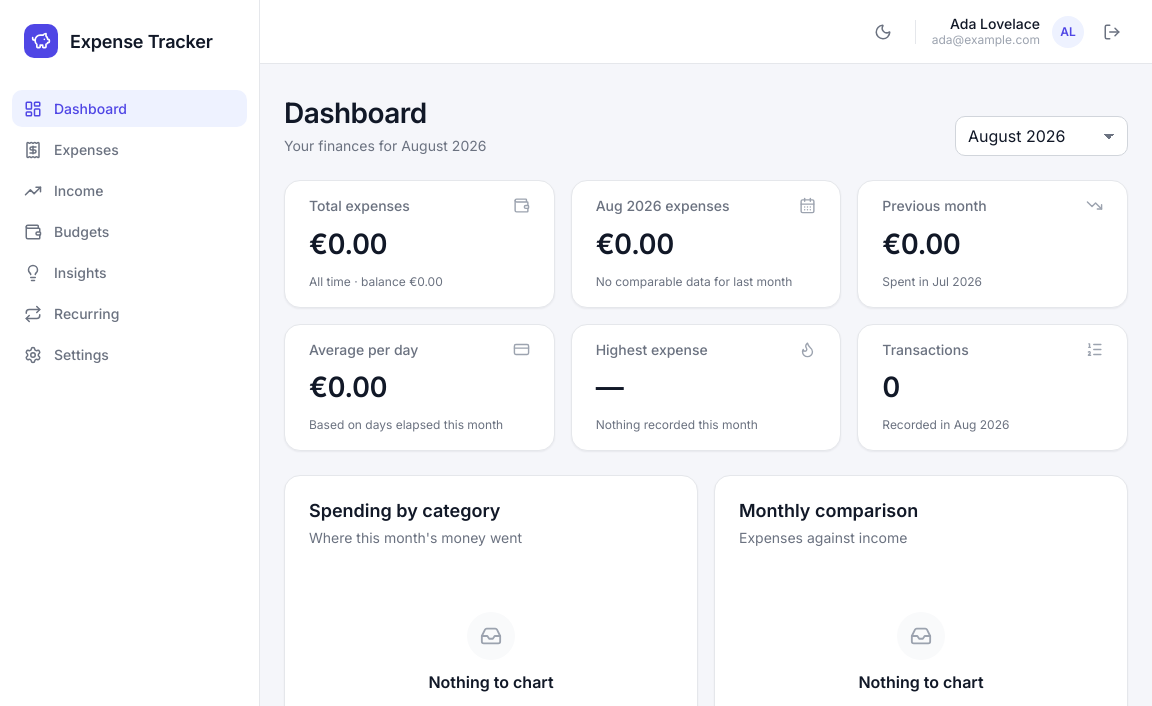
signed-in shell › logs out and returns to the login page
Click the button named "sign out" at (1112, 32), box 1096,16 -> 1128,48
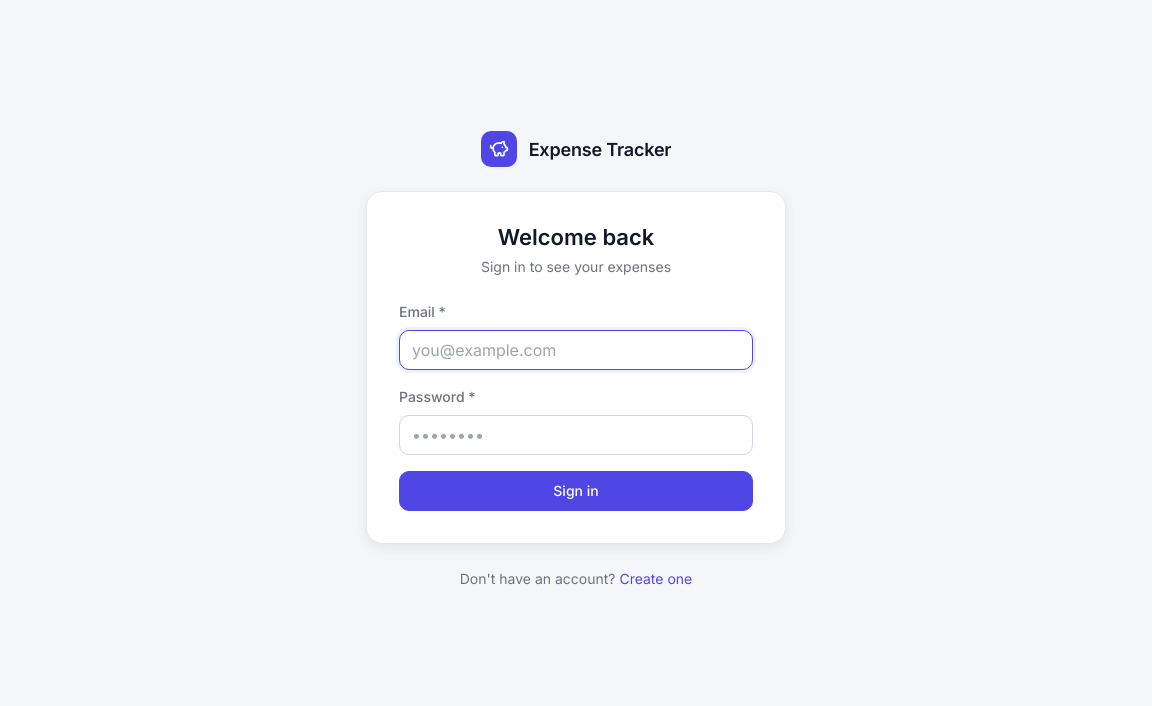
expect the heading "Welcome back" is shown: met, box 498,224 -> 654,250
